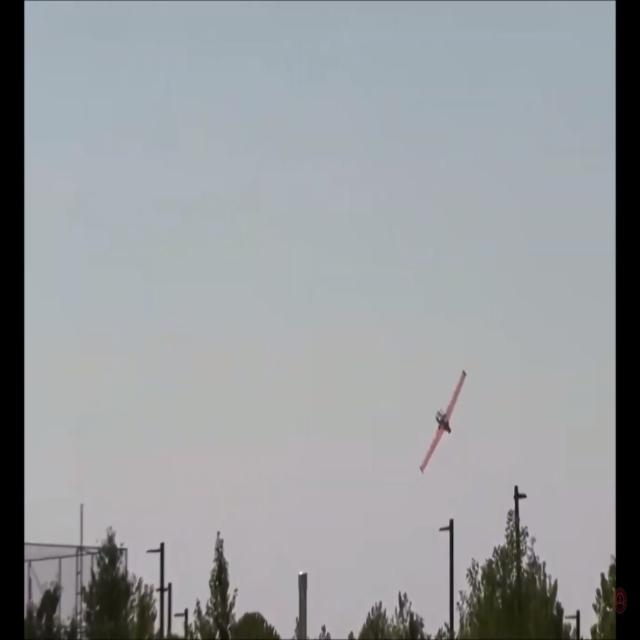iha: (419, 401, 467, 443)
